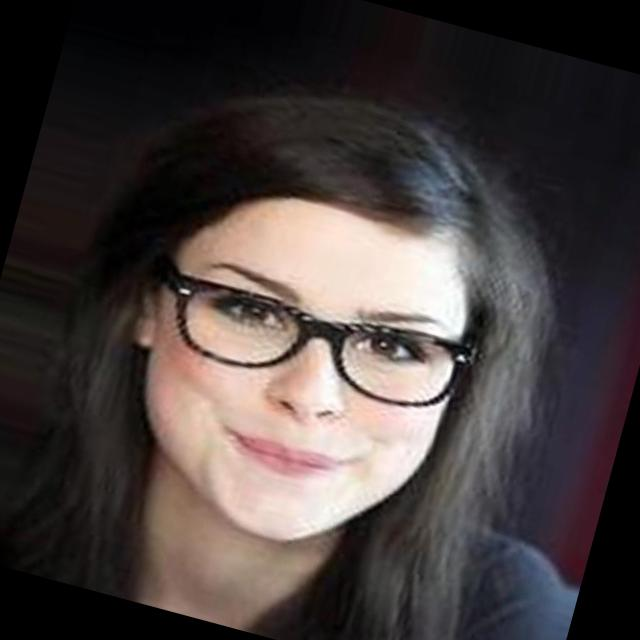bareface: (94, 132, 529, 564)
